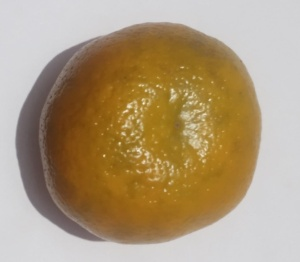BAD: (36, 16, 266, 245)
